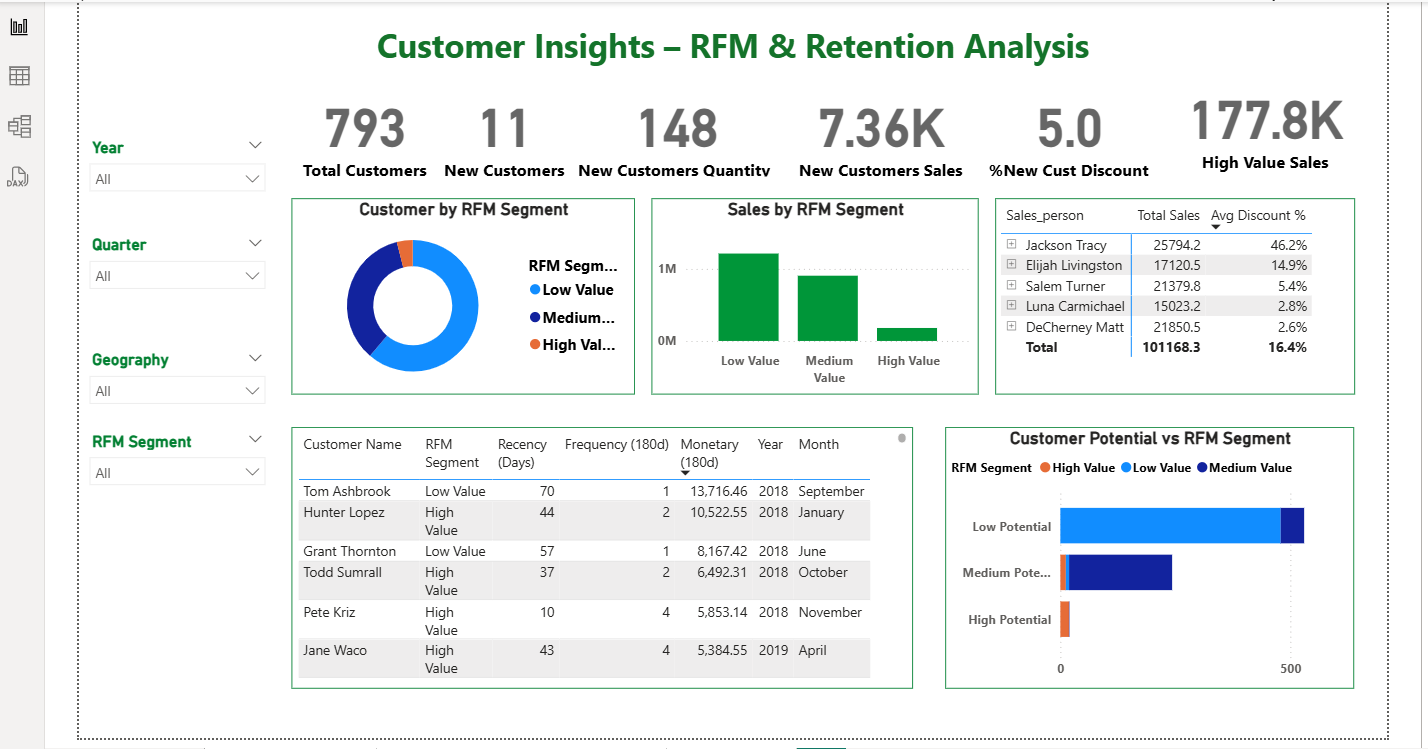

The dashboard page shown, as its layout file describes it:
{"tool":"powerbi","page":{"name":"Customer Analysis & Segmentation","canvas":[1280,720],"ordinal":1},"visuals":[{"type":"textbox","box":[16,16,1248,64],"z":0},{"type":"slicer","fields":{"Values":["Date.Year"]},"box":[0,128,192,64],"z":1000},{"type":"slicer","fields":{"Values":["Date.Quarter"]},"box":[0,224,192,64],"z":2000},{"type":"slicer","fields":{"Values":["Geography.Region","Geography.State"]},"box":[0,336,192,64],"z":3000},{"type":"slicer","fields":{"Values":["Customer.RFM Segment"]},"box":[0,416,192,64],"z":4000},{"type":"card","fields":{"Values":["Orders.Customer ID"]},"box":[208,80,144,96],"z":5000},{"type":"card","fields":{"Values":["_Measures.New Customers (2021)"]},"box":[352,80,128,96],"z":6000},{"type":"card","fields":{"Values":["_Measures.New Customers 2021 Discount"]},"box":[880,80,176,96],"z":7000},{"type":"donutChart","title":"Customer by RFM Segment","fields":{"Category":["Customer.RFM Segment"],"Y":["_Measures.Customer Count"]},"box":[208,192,336,192],"z":8000},{"type":"clusteredColumnChart","fields":{"Category":["Customer.RFM Segment"],"Y":["_Measures.Total Sales(nr)"]},"box":[560,192,320,192],"z":9000},{"type":"card","fields":{"Values":["_Measures.High Value Sales"]},"box":[1056,64,208,112],"z":10000},{"type":"tableEx","fields":{"Values":["Customer.Customer Name","Customer.RFM Segment","Customer.Recency (Days)","Customer.Frequency (180d)","Customer.Monetary (180d)","Customer.First Purchase Date.Variation.Date Hierarchy.Year","Customer.First Purchase Date.Variation.Date Hierarchy.Month"]},"box":[208,416,608,256],"z":11000},{"type":"card","fields":{"Values":["_Measures.New Customers 2021 Sales"]},"box":[688,80,192,96],"z":12000},{"type":"pivotTable","fields":{"Rows":["SalesPerson.Sales_person","Customer.RFM Segment","Geography.State","Geography.City"],"Values":["_Measures.Total Sales(nr)","_Measures.Avg Discount %"]},"box":[896,192,352,192],"z":13000},{"type":"card","fields":{"Values":["_Measures.New Customers Quantity (2021)"]},"box":[480,80,208,96],"z":14000},{"type":"barChart","title":"Customer Potential vs RFM Segment","fields":{"Category":["Customer.Customer Potential"],"Series":["Customer.RFM Segment"],"Y":["Customer.Customer ID"]},"box":[848,416,400,256],"z":15000}]}

Visuals, with their boxes on the page's 1280x720 design canvas (x1, y1, x2, y2). These are canvas units, not pixel positions in the 1428x749 screenshot, which may show the page scaled, cropped or inside an application window:
textbox: left=16, top=16, right=1264, bottom=80
slicer - Date.Year: left=0, top=128, right=192, bottom=192
slicer - Date.Quarter: left=0, top=224, right=192, bottom=288
slicer - Geography.Region x Geography.State: left=0, top=336, right=192, bottom=400
slicer - Customer.RFM Segment: left=0, top=416, right=192, bottom=480
card - Orders.Customer ID: left=208, top=80, right=352, bottom=176
card - _Measures.New Customers (2021): left=352, top=80, right=480, bottom=176
card - _Measures.New Customers 2021 Discount: left=880, top=80, right=1056, bottom=176
"Customer by RFM Segment" donutChart: left=208, top=192, right=544, bottom=384
clusteredColumnChart - Customer.RFM Segment x _Measures.Total Sales(nr): left=560, top=192, right=880, bottom=384
card - _Measures.High Value Sales: left=1056, top=64, right=1264, bottom=176
tableEx - Customer.Customer Name x Customer.RFM Segment: left=208, top=416, right=816, bottom=672
card - _Measures.New Customers 2021 Sales: left=688, top=80, right=880, bottom=176
pivotTable - SalesPerson.Sales_person x Customer.RFM Segment: left=896, top=192, right=1248, bottom=384
card - _Measures.New Customers Quantity (2021): left=480, top=80, right=688, bottom=176
"Customer Potential vs RFM Segment" barChart: left=848, top=416, right=1248, bottom=672
